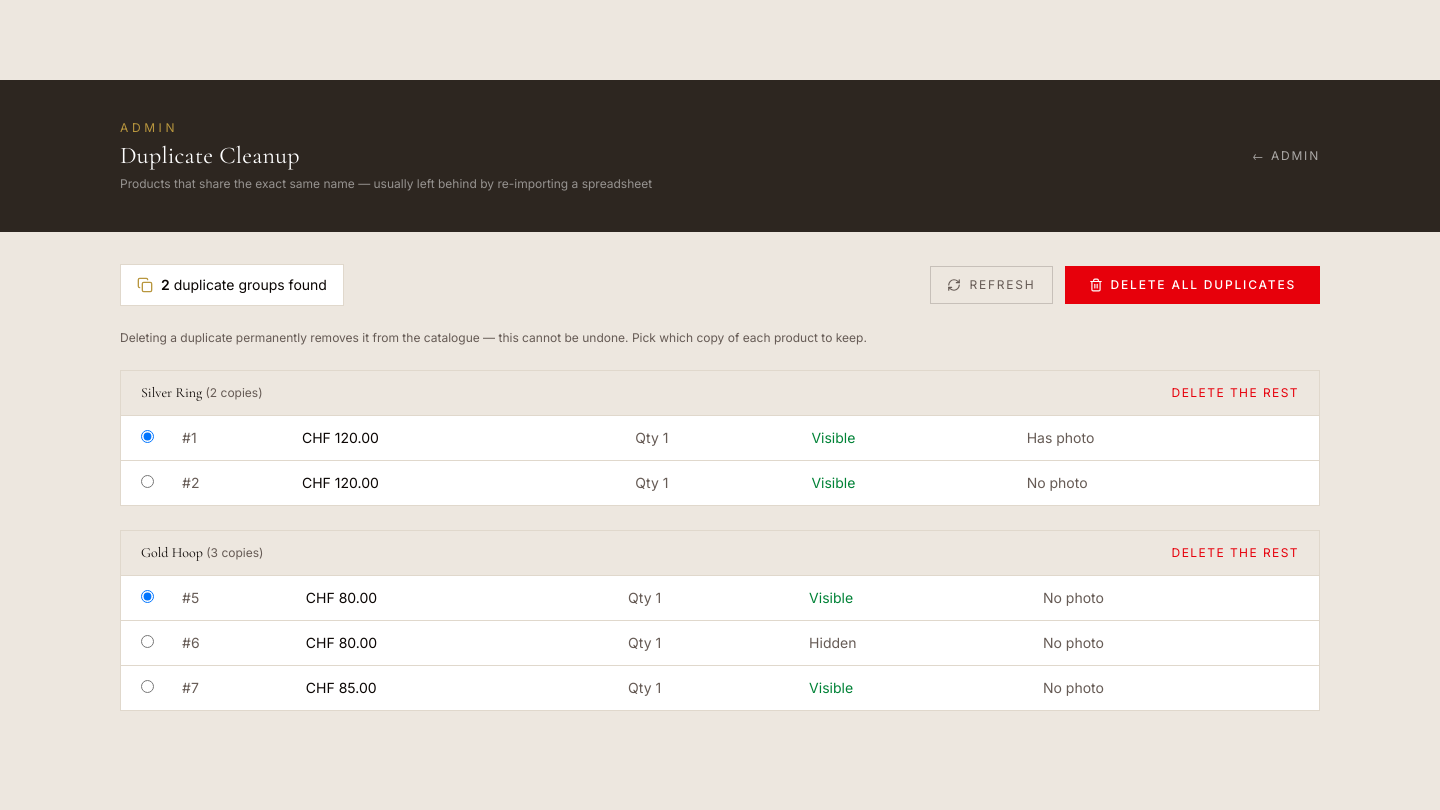
DuplicateCleanup: confirm-and-merge flow › opens the review dialog listing everything but the kept copy
Click the button "Delete the rest" in the row of "(2 copies)": (1235, 393) [1172,385,1299,401]
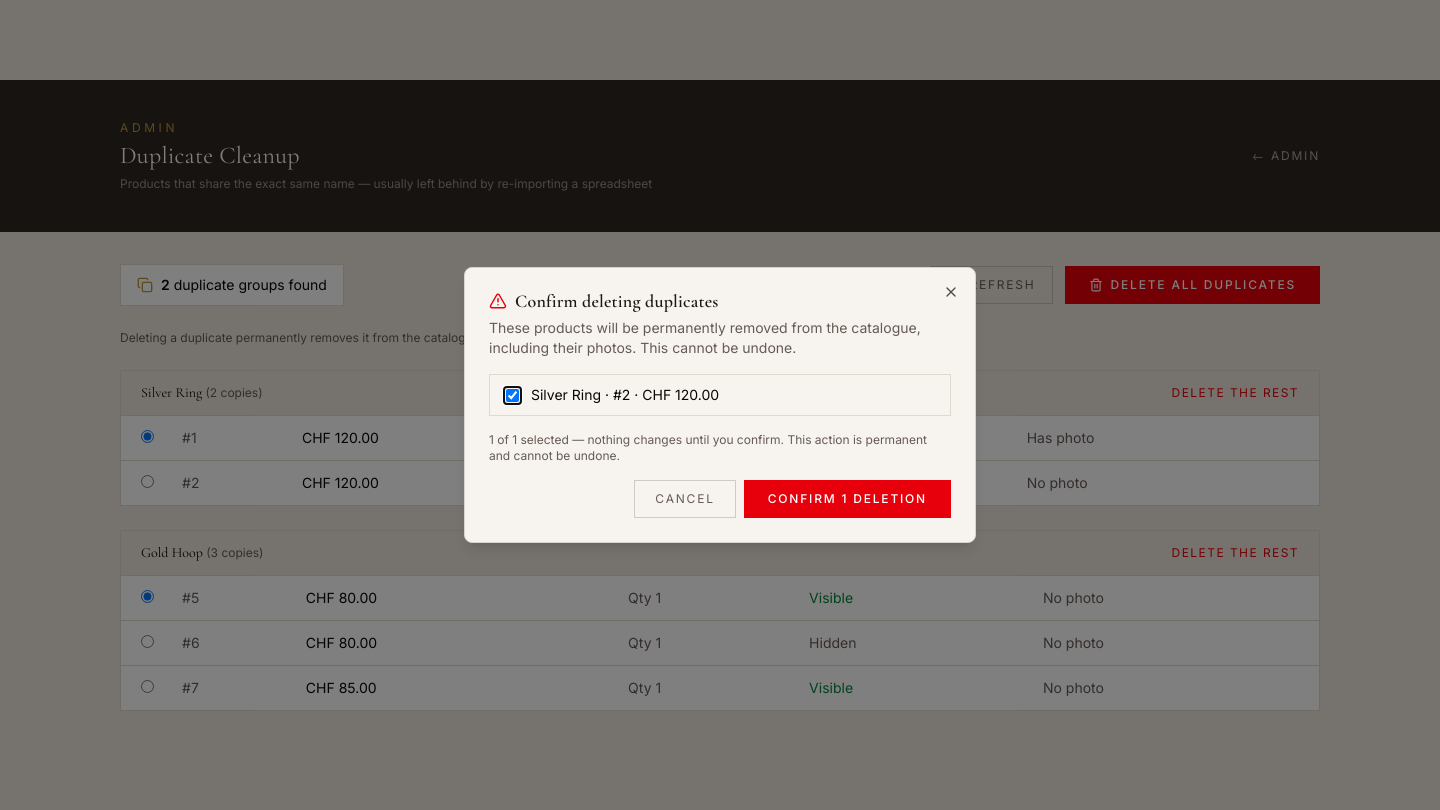
Expected: the heading "Confirm deleting duplicates" is shown, [489,290,718,312]
Expected: the text "Silver Ring · #2 · CHF 120.00" is shown, [531,385,719,405]
